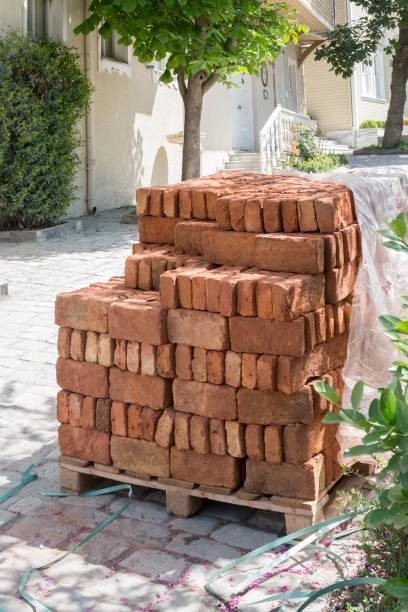Bricks: (225, 320, 302, 357), (256, 236, 319, 274), (241, 387, 306, 423), (248, 466, 315, 500), (169, 451, 231, 487), (172, 378, 233, 413), (169, 310, 225, 347), (58, 293, 107, 332), (113, 435, 167, 469), (111, 372, 164, 403), (111, 304, 158, 337), (209, 233, 252, 268), (59, 358, 104, 389), (59, 426, 103, 457), (283, 429, 336, 453), (293, 283, 326, 308), (150, 344, 173, 378), (259, 426, 279, 461), (188, 346, 206, 384), (175, 414, 195, 448), (220, 348, 239, 383), (281, 359, 298, 398), (226, 419, 243, 458), (176, 276, 195, 309), (159, 273, 177, 307), (243, 200, 261, 234), (174, 346, 190, 384), (138, 339, 155, 374), (204, 352, 223, 383), (140, 219, 171, 238), (176, 227, 204, 248), (257, 283, 274, 316), (319, 199, 335, 234), (190, 414, 204, 454), (259, 355, 275, 389), (206, 418, 222, 452), (246, 426, 263, 458), (303, 316, 319, 350), (325, 238, 343, 268), (331, 228, 348, 259), (274, 281, 289, 316), (157, 406, 170, 444), (124, 404, 137, 441), (191, 275, 205, 309), (241, 354, 255, 388), (206, 279, 220, 312), (345, 230, 362, 256), (262, 201, 278, 228), (162, 189, 179, 214), (279, 202, 293, 232), (218, 281, 231, 313), (85, 332, 98, 364), (111, 403, 124, 435), (79, 395, 92, 426), (317, 310, 330, 341), (238, 281, 250, 314), (219, 200, 231, 233), (113, 339, 127, 367), (304, 201, 317, 230), (326, 307, 339, 336), (126, 336, 136, 373), (97, 400, 108, 432), (70, 392, 80, 426), (193, 192, 207, 215), (141, 406, 151, 438), (181, 189, 194, 213), (58, 392, 67, 421), (140, 263, 151, 286), (59, 331, 69, 356), (102, 333, 108, 369), (234, 202, 242, 226), (136, 192, 146, 211), (73, 333, 80, 360), (127, 258, 133, 289), (344, 306, 351, 332), (209, 193, 215, 220), (153, 187, 158, 219)
